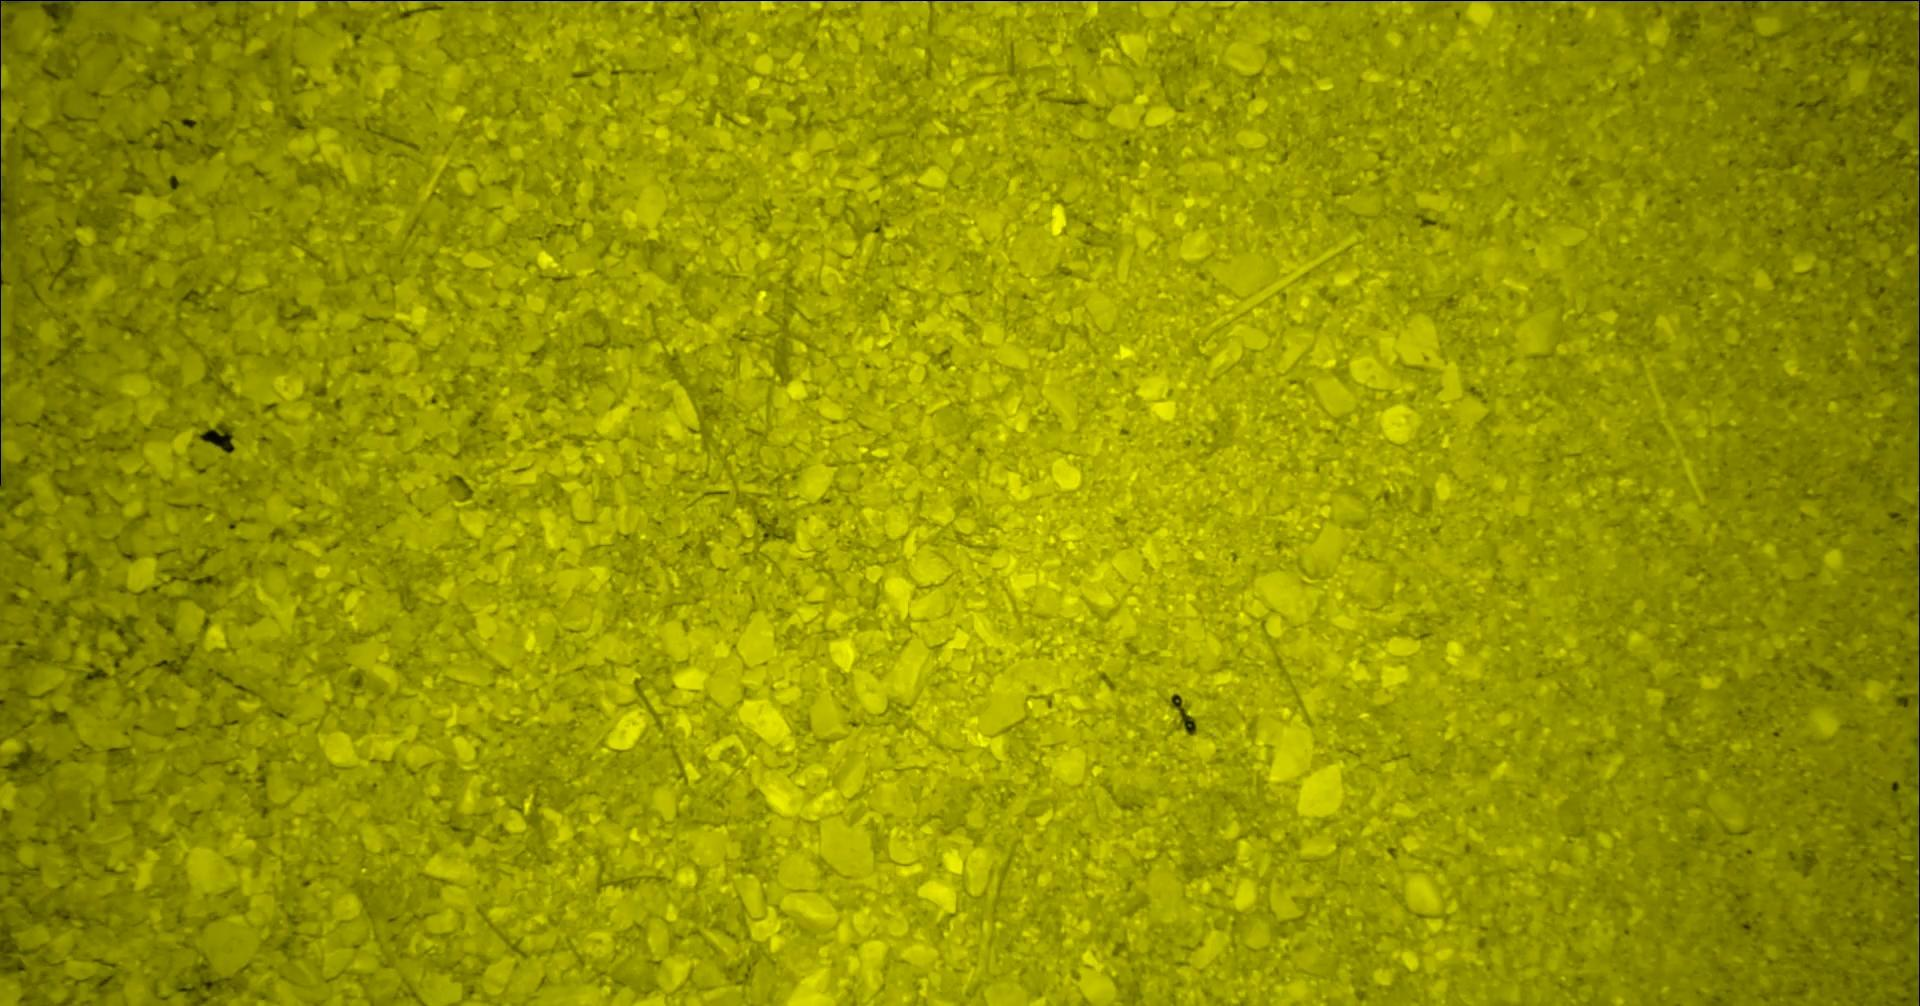ant: (0, 0, 79, 5), (1917, 323, 1919, 377), (1827, 0, 1877, 1)
